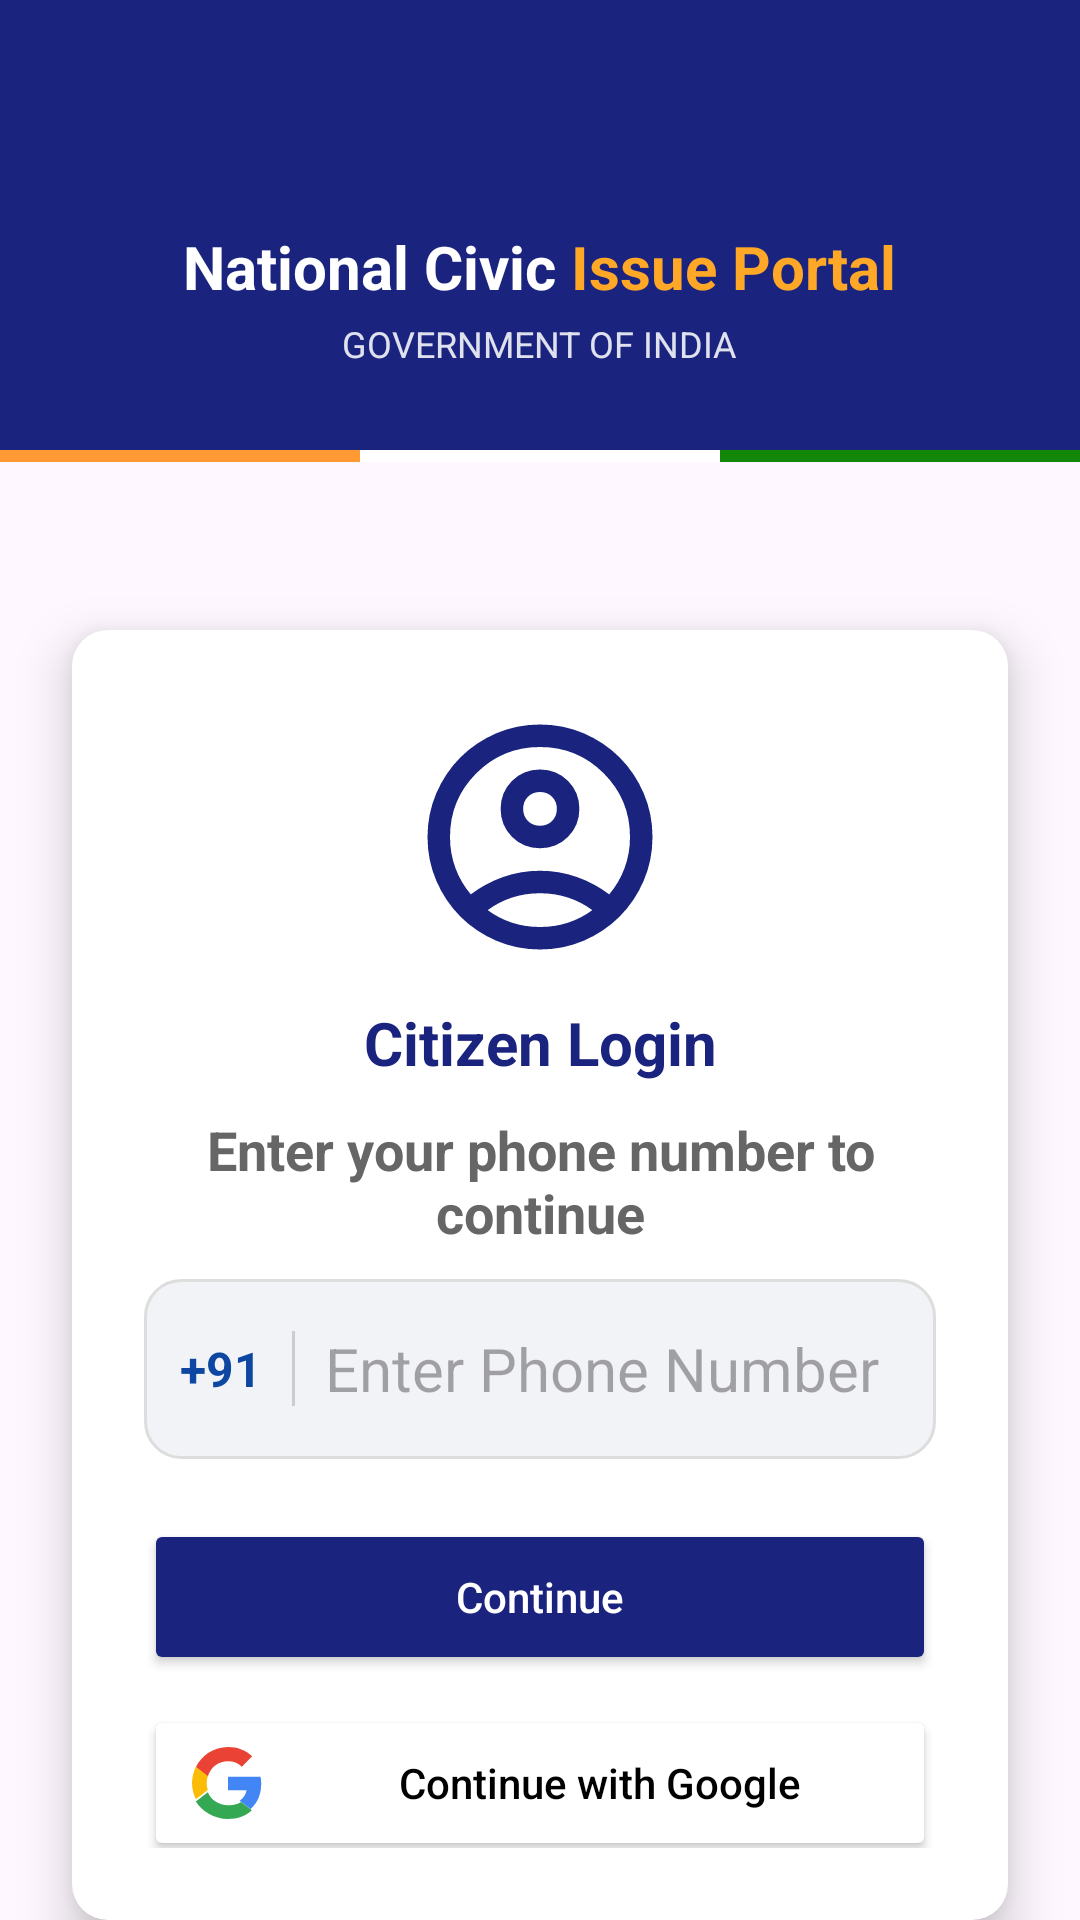

Icons on this 1080w x 1920h Android screen, each with its box as region(x1, y1, x2, y2):
user: region(427, 724, 653, 950)
